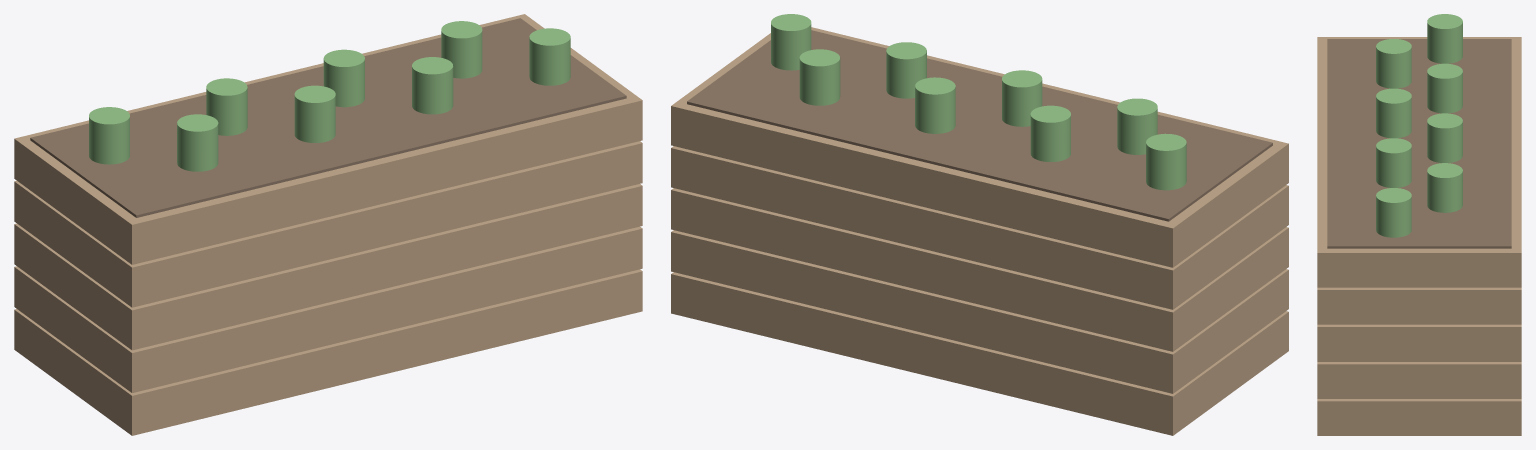
Rendered from hochbeet.glb.
The picture shows the model from 3 angles, left to right: view 1: azimuth 30°, elevation 25°; view 2: azimuth 150°, elevation 25°; view 3: azimuth 270°, elevation 25°; orthographic projection. The views are drawn at different scales.
Size of the model in its own units: 2 by 0.95 by 0.8.
